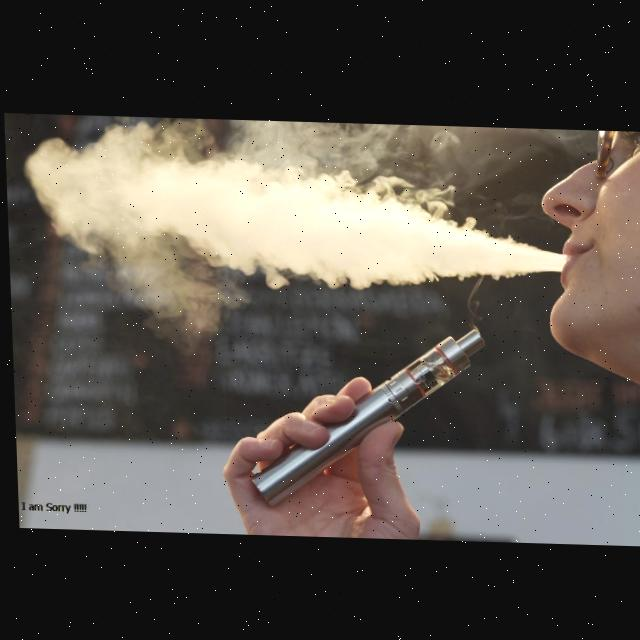vape: (242, 319, 490, 511)
